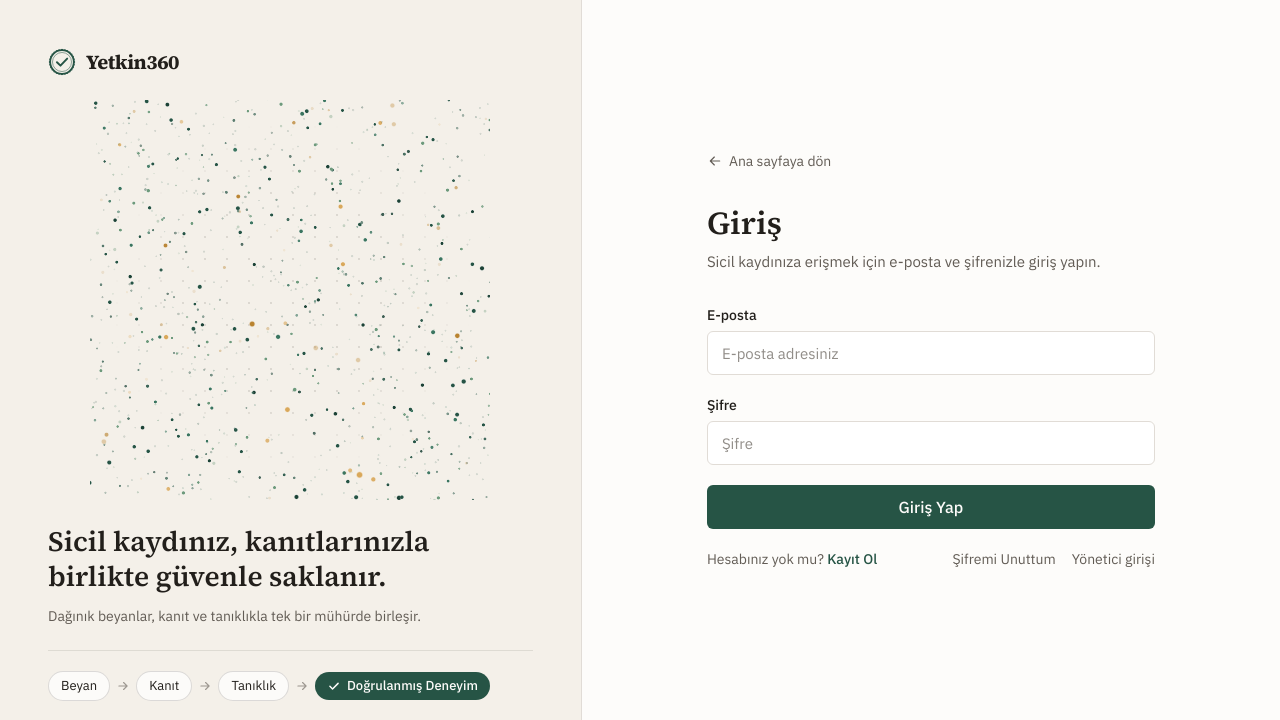
Test: LoginPage (giris/page.tsx) — Form Gerçek İmplementasyon › AC-11: Ağ hatası (submit butonu tekrar aktif olur) › AC-11: Fetch reddi → 'Bağlantı hatası' mesajı + submit butonu tekrar aktif
The image size is (1280, 720).
In the field with placeholder "E-posta adresiniz": (931, 353) [707,331,1155,375], type "test@example.com"
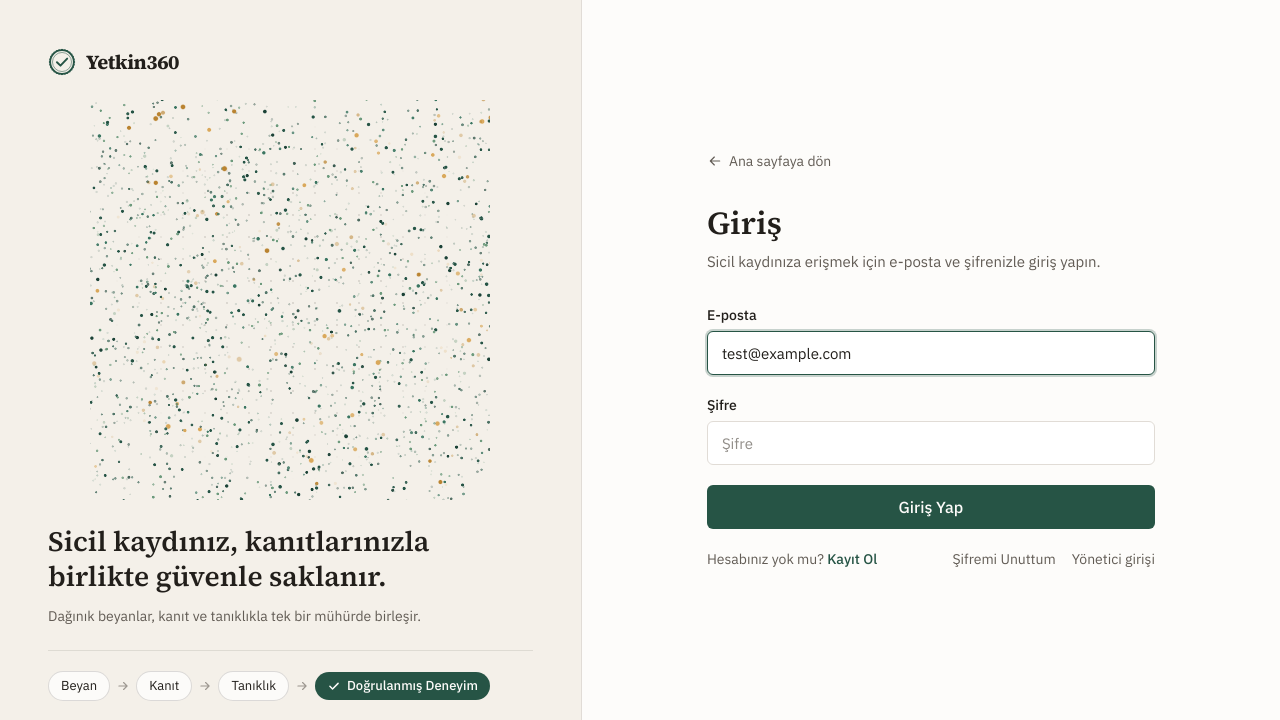
In the password field with placeholder "Şifre": (931, 443) [707,421,1155,465], type "password123"
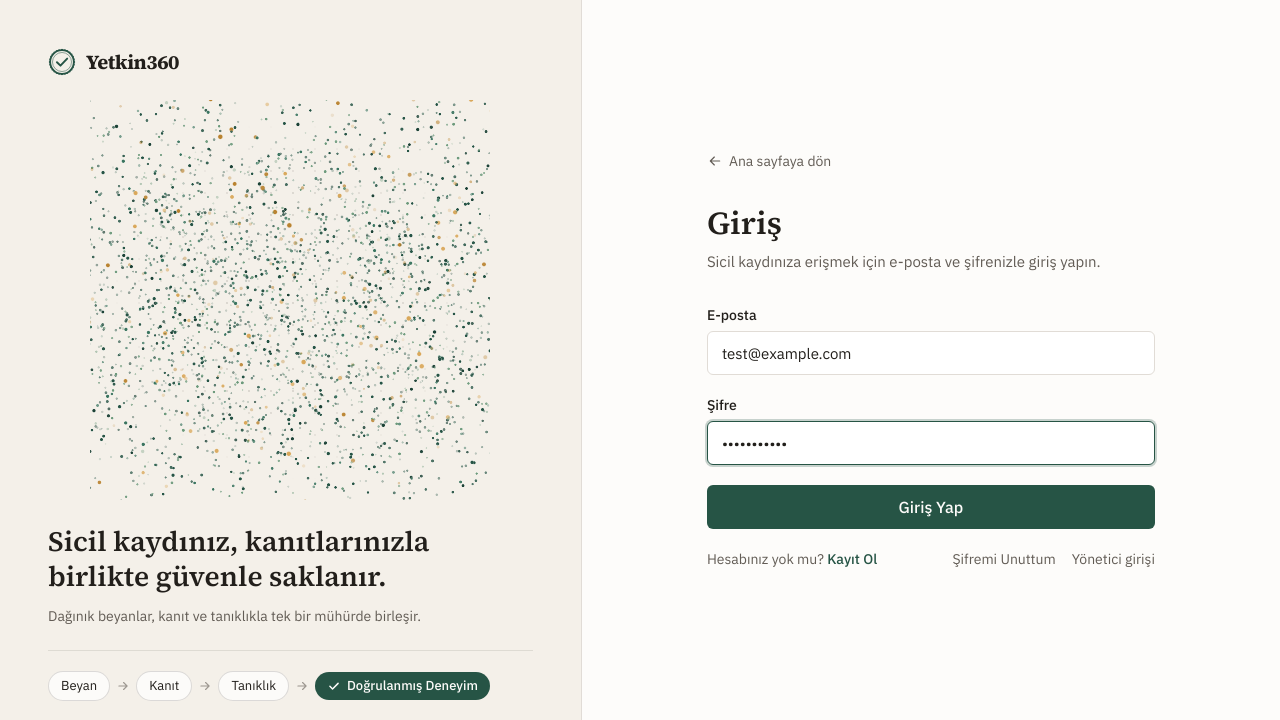
Click the button "Giriş Yap": click(931, 507) [707,485,1155,529]
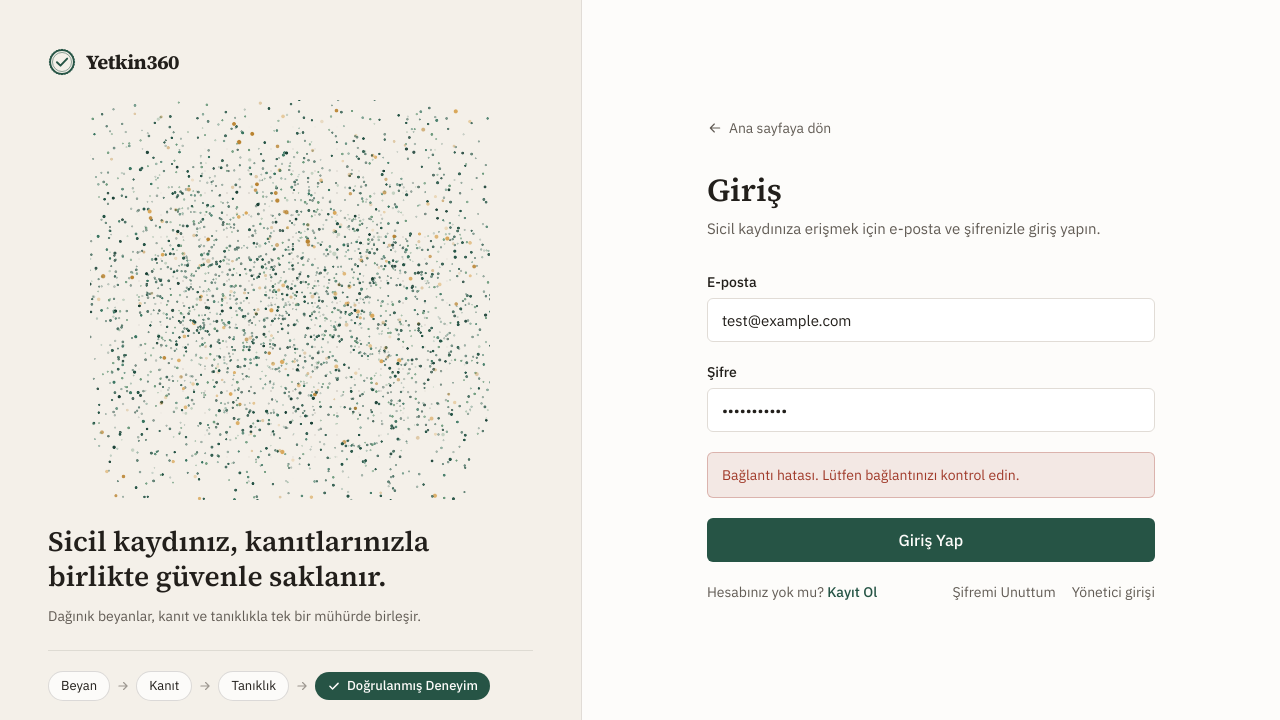
Now the text "Bağlantı hatası. Lütfen bağlantınızı kontrol edin." is shown, box [707,452,1155,498]
